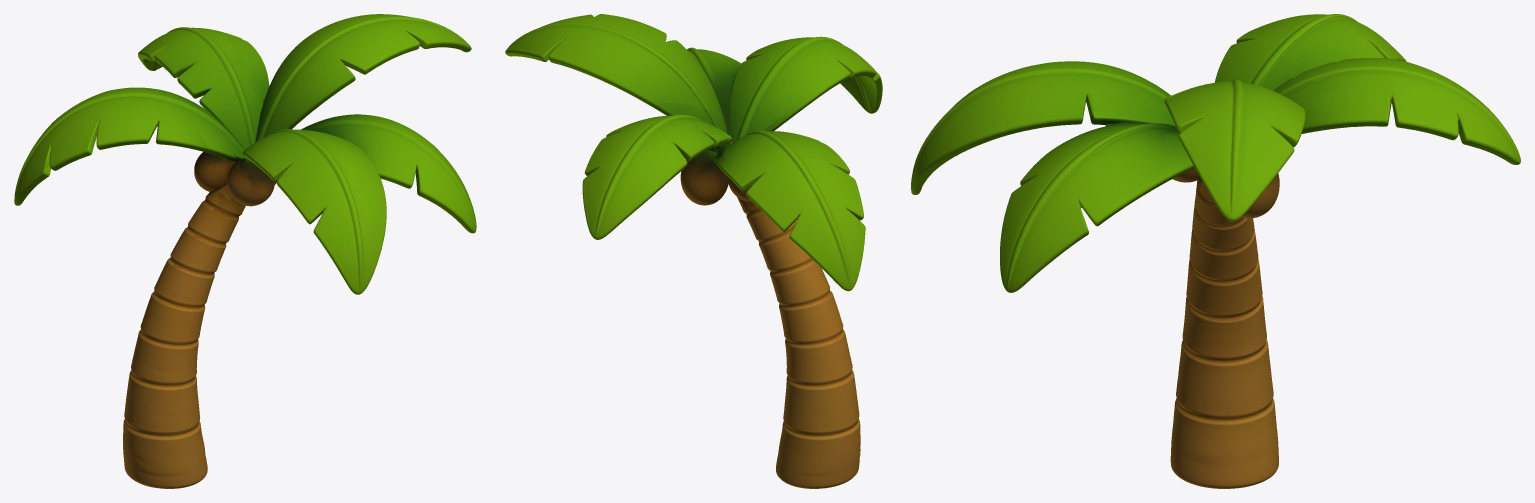
The model's file is palm1.glb.
3 views of the same model, side by side, from view 1: azimuth 30°, elevation 25°; view 2: azimuth 150°, elevation 25°; view 3: azimuth 270°, elevation 25° (orthographic). The views are drawn at different scales.
Visible parts, largest first — view 1: node_0; view 2: node_0; view 3: node_0.
Boxes of the visible parts, x1,y1,x2,y2 form: node_0: [14, 14, 476, 488]; node_0: [505, 14, 882, 488]; node_0: [911, 14, 1520, 488].
Size of the model in its own units: 0.9742 by 0.9247 by 1.02.
1 material, 1 textured.
